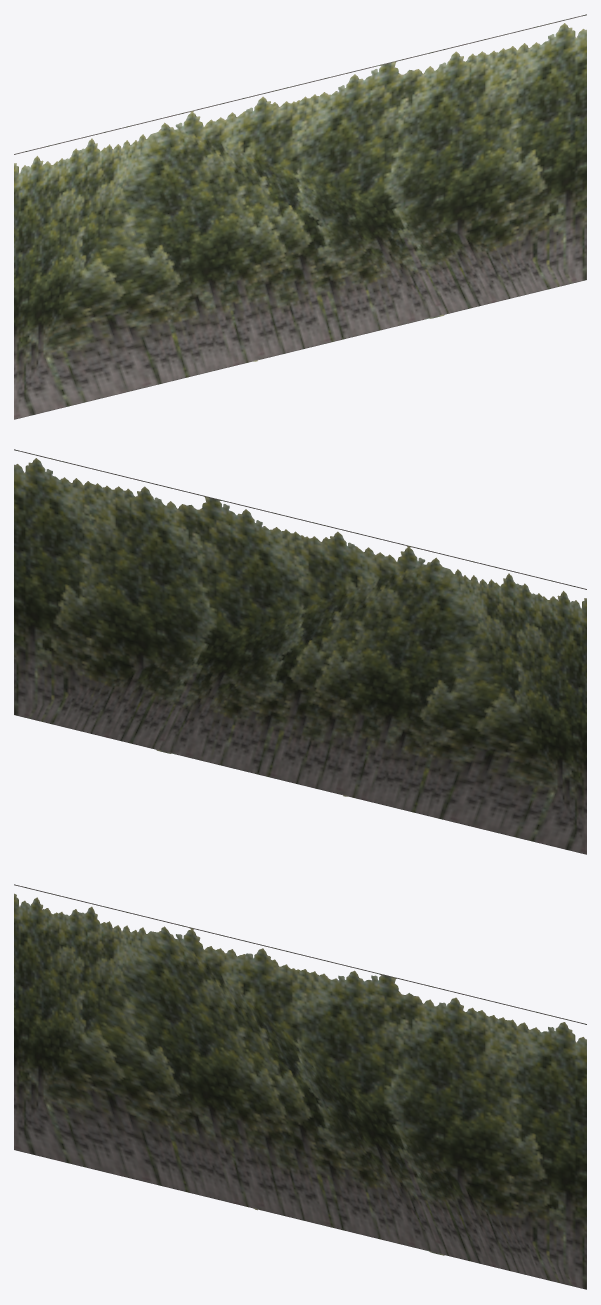
The model's file is 4puuta.fbx.
3 renders of one model, top to bottom at view 1: azimuth 30°, elevation 25°; view 2: azimuth 150°, elevation 25°; view 3: azimuth 330°, elevation 25°, orthographic.
Visible parts, largest first — view 1: pPlane1; view 2: pPlane1; view 3: pPlane1.
Part boxes in pixels (<box>): pPlane1: <box>14,14,586,419</box>; pPlane1: <box>14,449,586,854</box>; pPlane1: <box>14,884,586,1289</box>.
Size of the model in its own units: 9 by 4 by 1.53e-15.
1 material, 1 textured.
